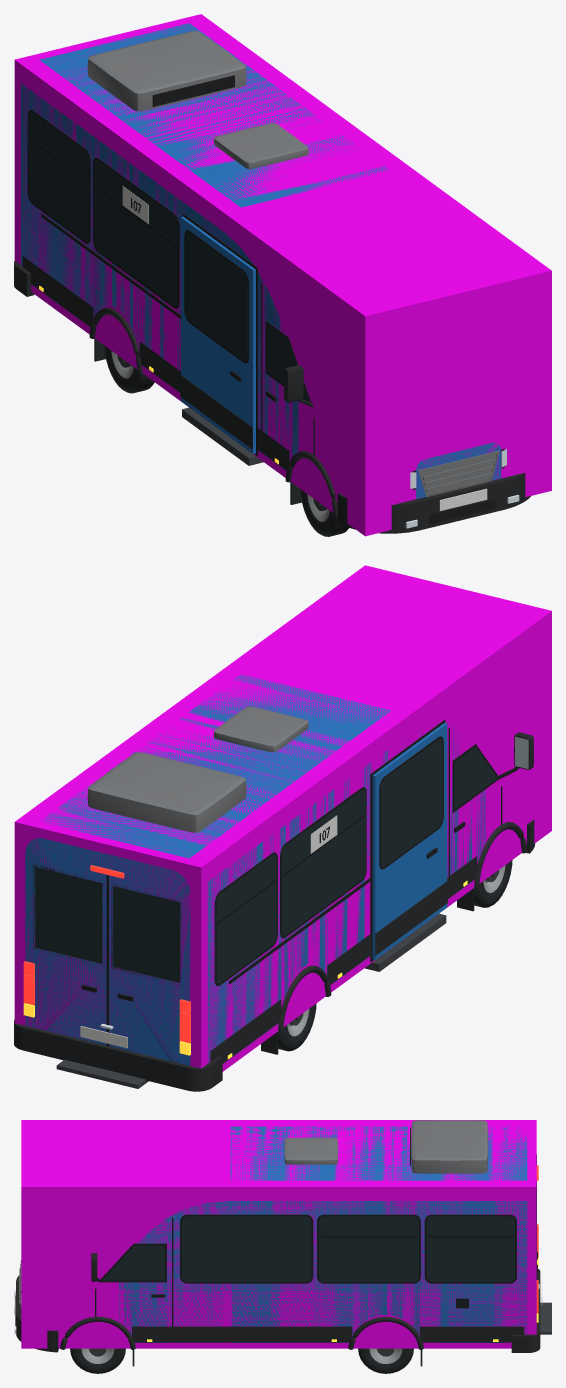
The model's file is PT_Minibus_Route.fbx.
3 views of the same model, one above another, from view 1: azimuth 30°, elevation 25°; view 2: azimuth 150°, elevation 25°; view 3: azimuth 270°, elevation 25° (orthographic). The views are drawn at different scales.
Visible parts, largest first — view 1: COL_Body, Body, Roof_AC, Glass_Side_R2, Door_Slide, Door_Slide_Glass, Glass_Side_R1, Bumper_Front, Cladding_R, Roof_Hatch, Door_Slide_Cladding, Grille_Surround (+14 smaller); view 2: COL_Body, Body, Roof_AC, Glass_Side_R2, Door_Slide, Glass_Rear_L, Glass_Rear_R, Door_Slide_Glass, Glass_Side_R1, Bumper_Rear, Cladding_R, Roof_Hatch (+12 smaller); view 3: COL_Body, Body, Glass_Side_L3, Glass_Side_L2, Glass_Side_L1, Cladding_L, Roof_AC, Glass_Cab_L, Roof_Hatch, ArchFlares_L, Glass_Side_L3_Seal, Bumper_Rear (+10 smaller).
Boxes of the visible parts, left/top/right/bottom form: COL_Body: left=14, top=14, right=551, bottom=536; Body: left=21, top=23, right=501, bottom=498; Roof_AC: left=87, top=31, right=246, bottom=111; Glass_Side_R2: left=94, top=160, right=177, bottom=306; Door_Slide: left=181, top=216, right=255, bottom=453; Door_Slide_Glass: left=185, top=233, right=247, bottom=360; Glass_Side_R1: left=28, top=112, right=88, bottom=241; Bumper_Front: left=337, top=473, right=530, bottom=533; Cladding_R: left=22, top=256, right=289, bottom=470; Roof_Hatch: left=213, top=123, right=308, bottom=168; Door_Slide_Cladding: left=180, top=375, right=252, bottom=449; Grille_Surround: left=418, top=450, right=499, bottom=496; COL_Body: left=14, top=565, right=551, bottom=1071; Body: left=25, top=674, right=485, bottom=1065; Roof_AC: left=87, top=752, right=246, bottom=832; Glass_Side_R2: left=281, top=789, right=365, bottom=935; Door_Slide: left=372, top=723, right=447, bottom=959; Glass_Rear_L: left=35, top=867, right=102, bottom=963; Glass_Rear_R: left=113, top=886, right=180, bottom=982; Door_Slide_Glass: left=381, top=739, right=442, bottom=866; Glass_Side_R1: left=216, top=855, right=276, bottom=983; Bumper_Rear: left=14, top=1019, right=222, bottom=1091; Cladding_R: left=210, top=856, right=477, bottom=1063; Roof_Hatch: left=213, top=706, right=308, bottom=752; COL_Body: left=21, top=1120, right=536, bottom=1348; Body: left=119, top=1126, right=527, bottom=1342; Glass_Side_L3: left=182, top=1216, right=311, bottom=1281; Glass_Side_L2: left=319, top=1216, right=418, bottom=1281; Glass_Side_L1: left=426, top=1216, right=514, bottom=1281; Cladding_L: left=132, top=1326, right=524, bottom=1342; Roof_AC: left=411, top=1120, right=487, bottom=1173; Glass_Cab_L: left=102, top=1245, right=164, bottom=1280; Roof_Hatch: left=284, top=1137, right=338, bottom=1164; ArchFlares_L: left=60, top=1316, right=423, bottom=1349; Glass_Side_L3_Seal: left=180, top=1214, right=313, bottom=1283; Bumper_Rear: left=511, top=1269, right=540, bottom=1352.
Size of the model in its own units: 2.72 by 2.92 by 7.
